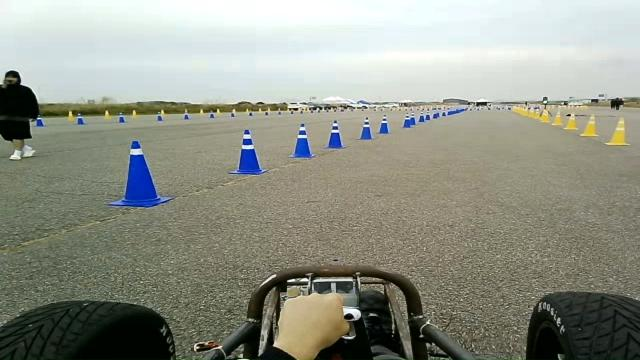blue cone: (106, 140, 174, 207), (228, 128, 268, 175), (288, 123, 316, 158), (323, 120, 345, 148), (356, 116, 374, 140), (376, 114, 391, 134), (401, 113, 412, 128), (408, 112, 417, 125), (424, 109, 432, 121)
yellow cone: (604, 116, 630, 146), (580, 114, 598, 136), (563, 113, 578, 130), (551, 111, 562, 126), (615, 116, 625, 128), (539, 112, 550, 122), (512, 106, 524, 115), (530, 109, 538, 120)
